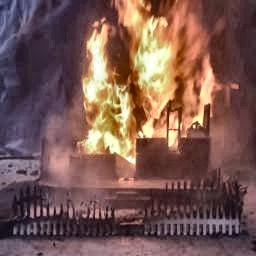fire: (69, 0, 232, 165)
